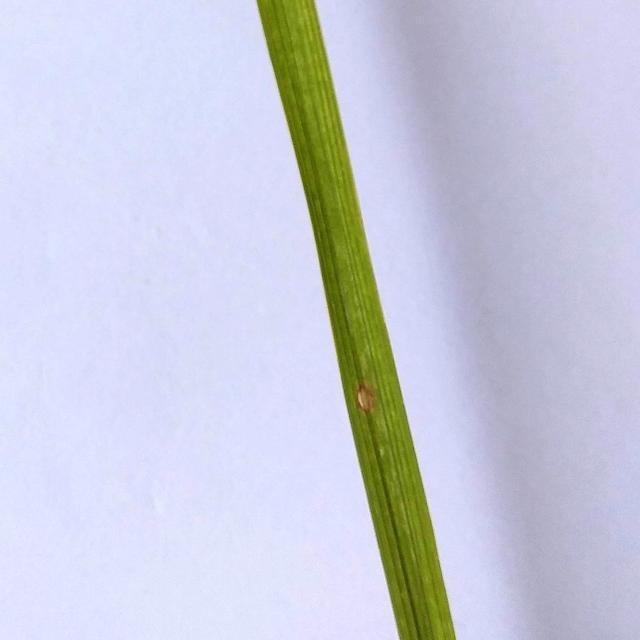Blast: (352, 384, 378, 409)
